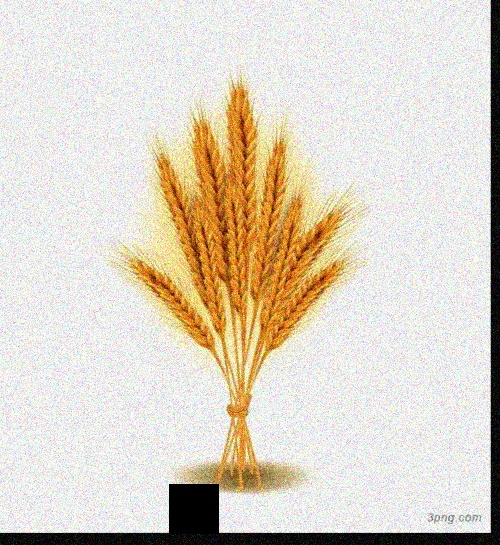wheat: (153, 142, 224, 344), (267, 192, 358, 340), (106, 242, 215, 356), (188, 100, 238, 320), (215, 80, 256, 322), (245, 127, 287, 314), (259, 185, 303, 324)
